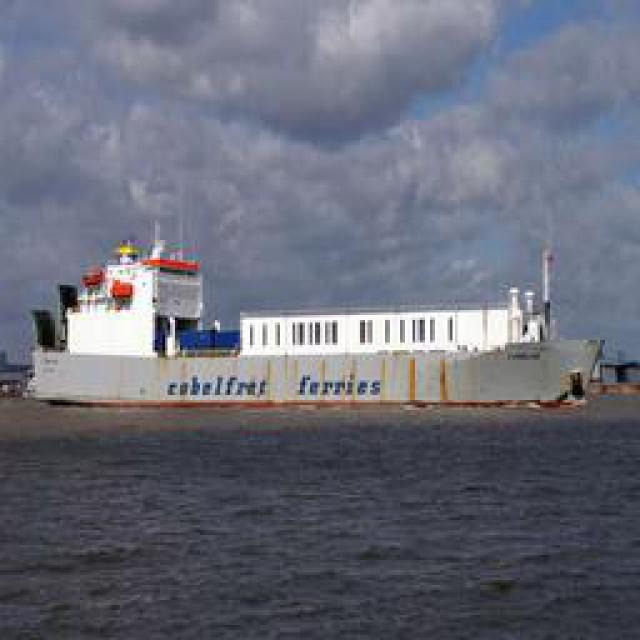Ship: (26, 221, 609, 409)
